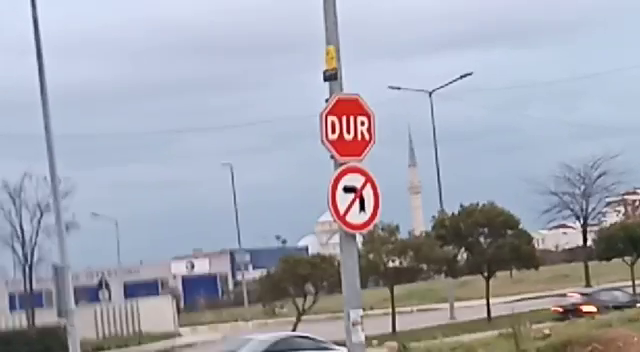no_left: (325, 163, 383, 237)
stop: (315, 89, 380, 165)
